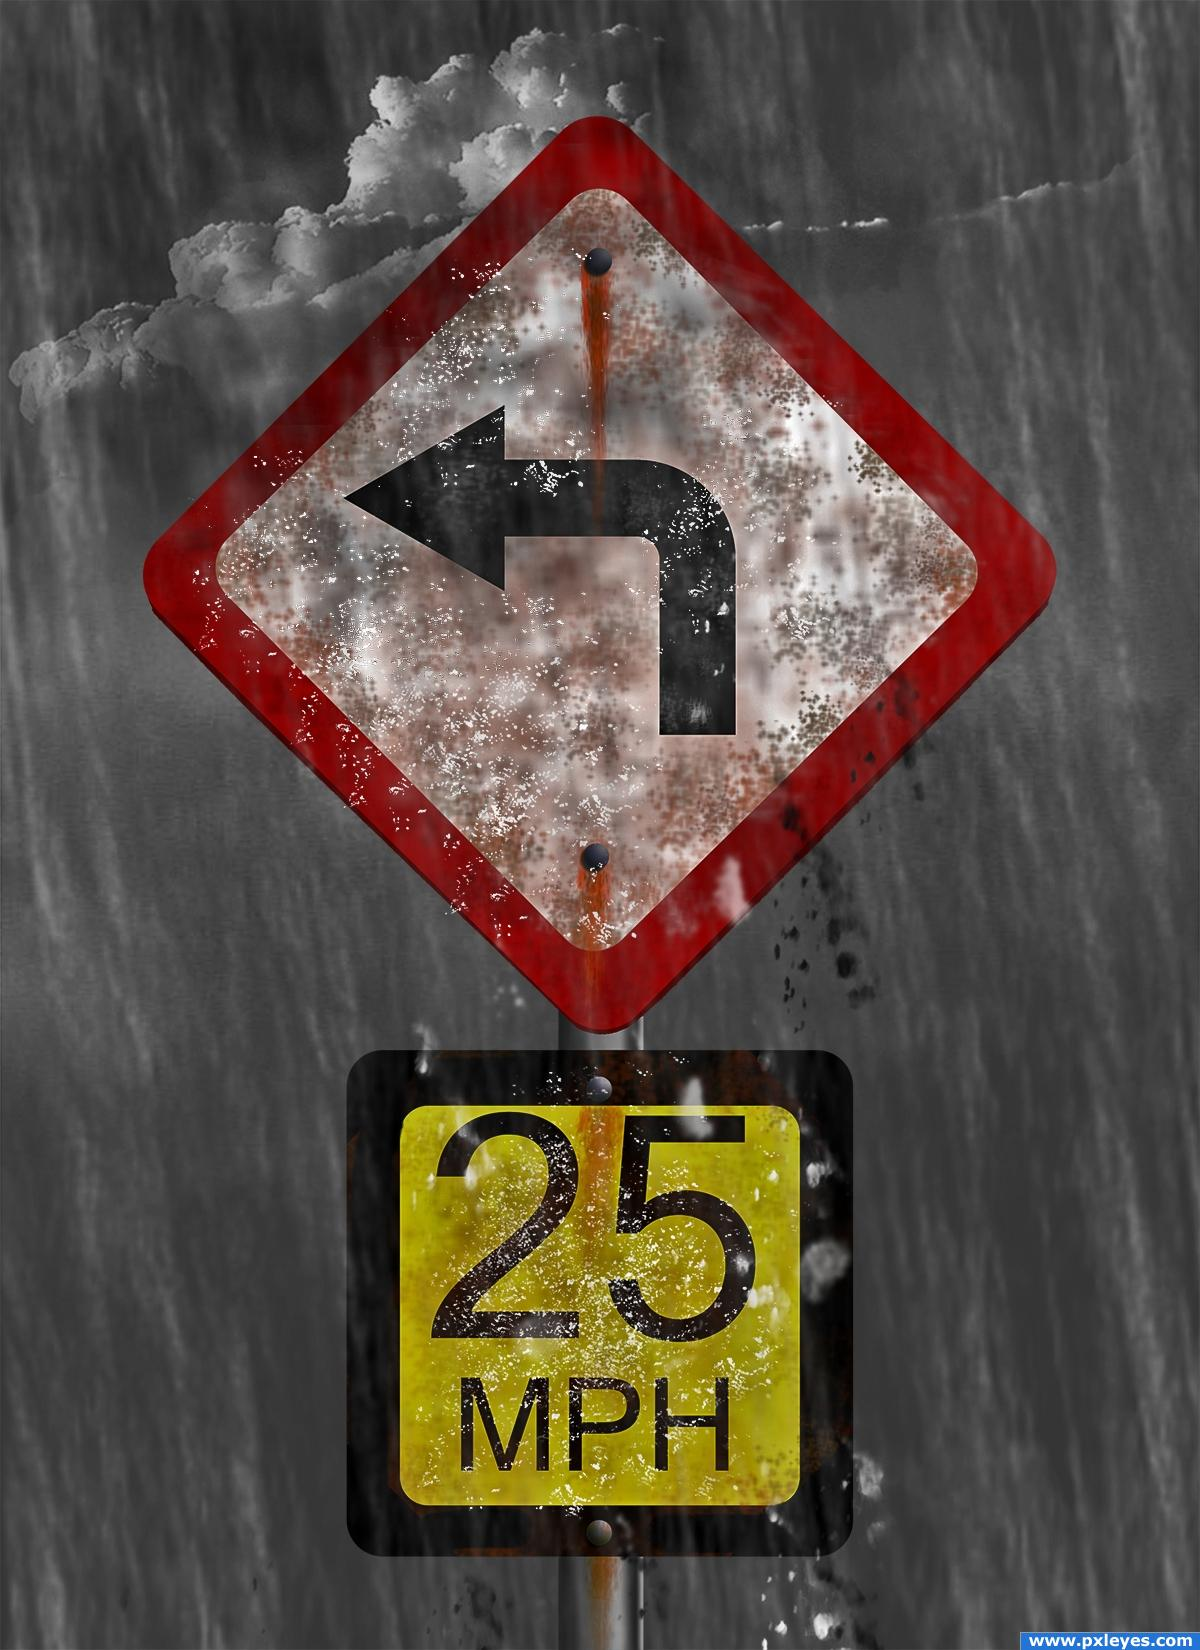left: (336, 398, 793, 749)
